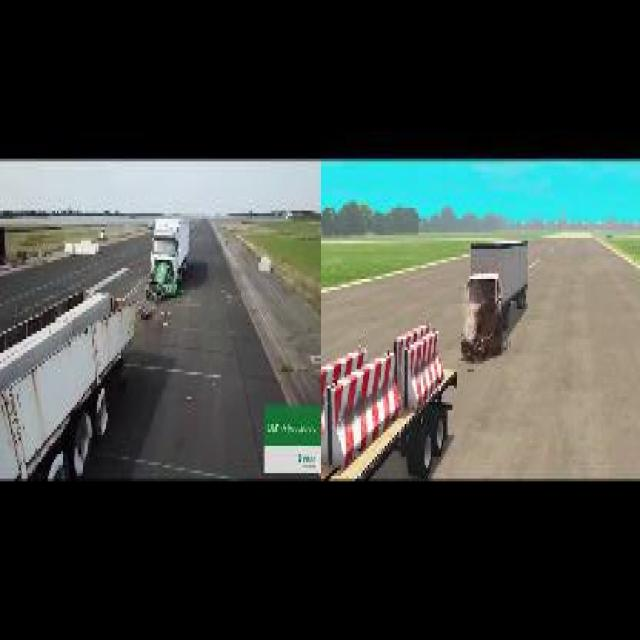accident: (460, 232, 532, 356), (144, 208, 190, 303)
